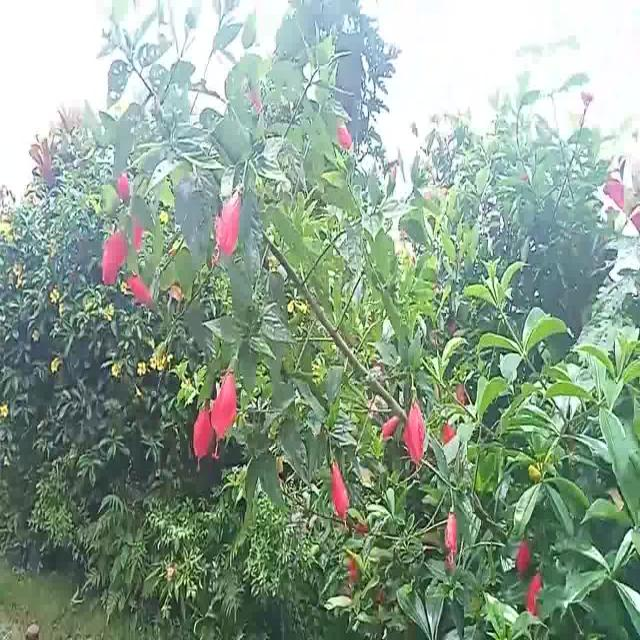Flower: (214, 179, 247, 258), (211, 364, 242, 448), (323, 451, 355, 520), (100, 218, 128, 286), (403, 391, 429, 463), (189, 401, 214, 465), (125, 271, 159, 315), (528, 563, 546, 618)
